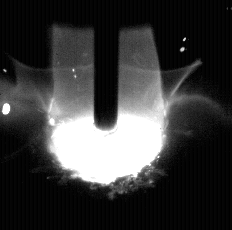arame: (95, 0, 119, 129)
poca: (47, 0, 163, 230)
